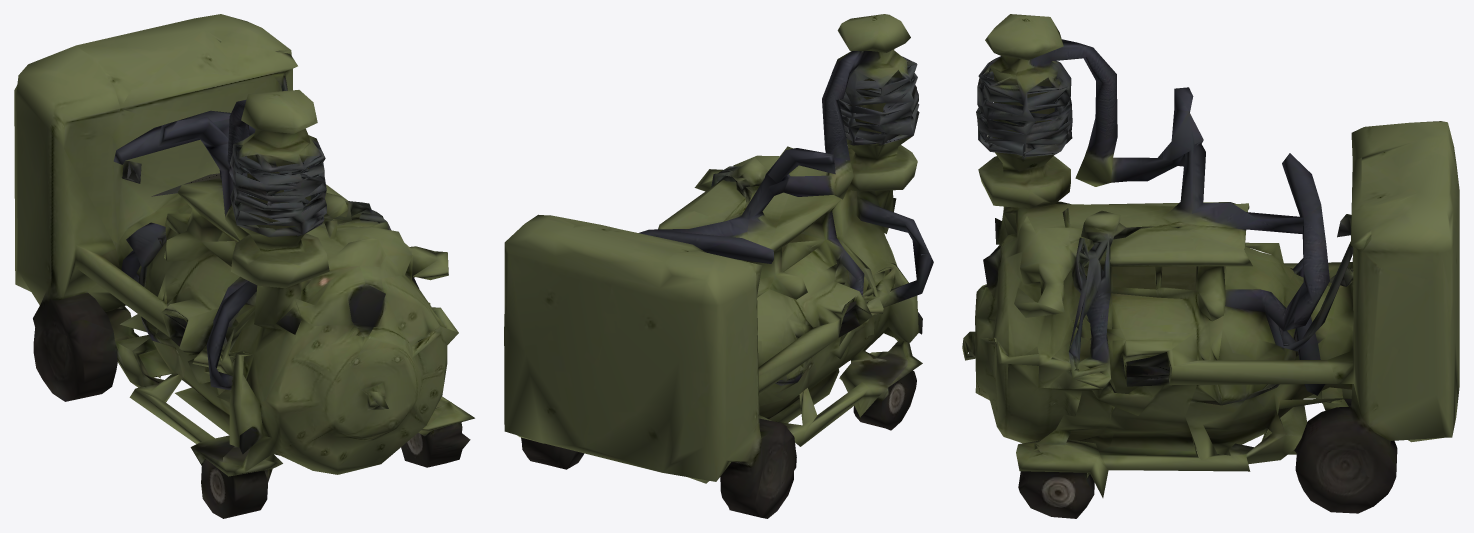
File: generator.glb
The picture shows the model from 3 angles, left to right: view 1: azimuth 30°, elevation 25°; view 2: azimuth 150°, elevation 25°; view 3: azimuth 270°, elevation 25°; orthographic projection. The views are drawn at different scales.
Visible parts, largest first — view 1: tripo_node_b44c4163-1b5a-40a6-99de-0b3c90f1f103; view 2: tripo_node_b44c4163-1b5a-40a6-99de-0b3c90f1f103; view 3: tripo_node_b44c4163-1b5a-40a6-99de-0b3c90f1f103.
Part boxes in pixels (x1,y1,x2,y2): tripo_node_b44c4163-1b5a-40a6-99de-0b3c90f1f103: (14,14,474,518); tripo_node_b44c4163-1b5a-40a6-99de-0b3c90f1f103: (504,14,933,518); tripo_node_b44c4163-1b5a-40a6-99de-0b3c90f1f103: (962,14,1459,518).
Bounding box in the file's own units: 0.5971 × 0.9207 × 1.
Materials: 1 (1 with a texture image).
